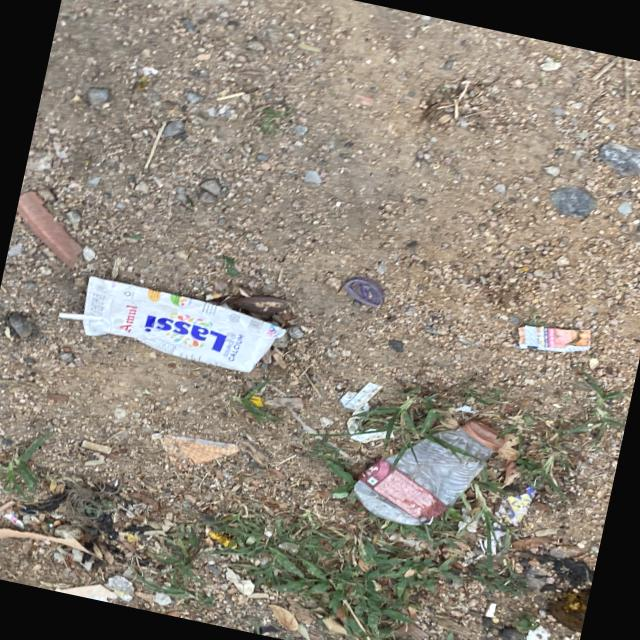chai_nhua: (354, 420, 505, 525)
giay: (519, 325, 591, 352)
ly_hop_giay: (59, 276, 285, 372)
